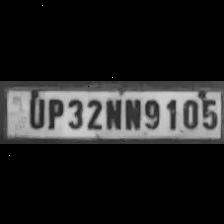0: (179, 96, 199, 128)
1: (161, 95, 179, 129)
2: (84, 95, 104, 129)
3: (64, 96, 82, 128)
5: (200, 95, 218, 129)
9: (141, 95, 161, 129)
N: (122, 96, 140, 130), (104, 95, 120, 129)
P: (45, 96, 63, 128)
U: (24, 94, 46, 128)
